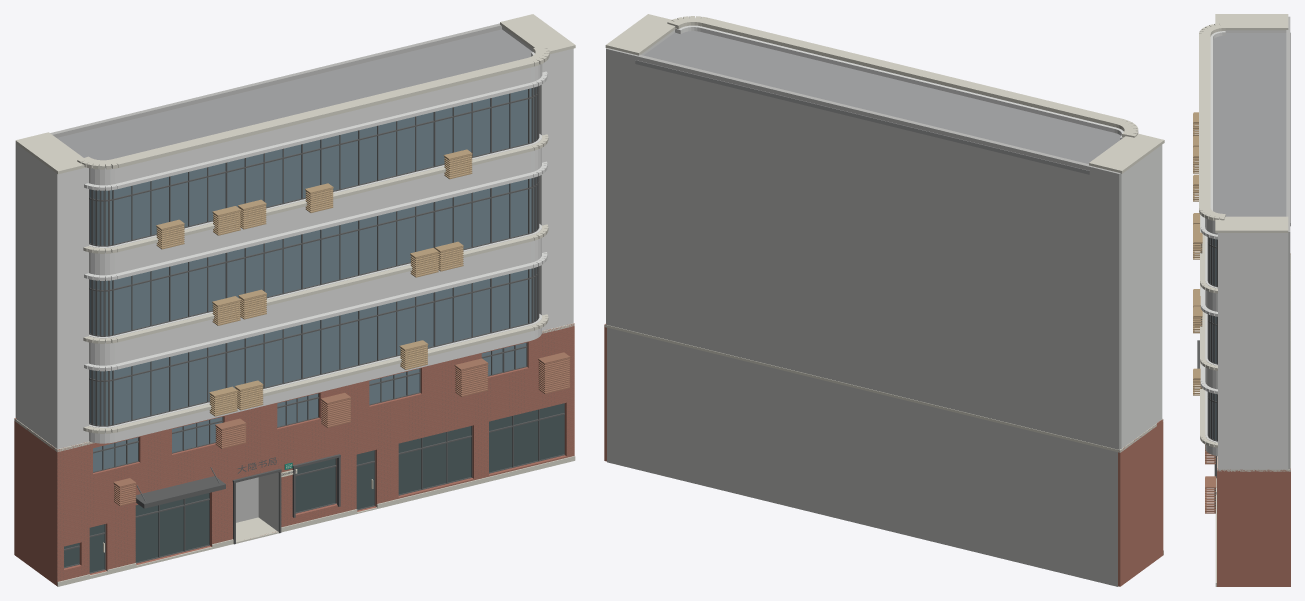
The model's file is xuhui-wukang-mansion-east-annex-raw.glb.
3 renders of one model, left to right at view 1: azimuth 30°, elevation 25°; view 2: azimuth 150°, elevation 25°; view 3: azimuth 270°, elevation 25°, orthographic. The views are drawn at different scales.
Visible parts, largest first — view 1: 武康大楼东侧副楼临淮海中路立面; view 2: 武康大楼东侧副楼临淮海中路立面; view 3: 武康大楼东侧副楼临淮海中路立面.
Part boxes in pixels (box(x1,y1,x2,y2)): 武康大楼东侧副楼临淮海中路立面: box(14, 14, 575, 586); 武康大楼东侧副楼临淮海中路立面: box(604, 14, 1164, 586); 武康大楼东侧副楼临淮海中路立面: box(1193, 14, 1290, 586).
Bounding box in the file's own units: 24.17 × 18.66 × 4.61.
